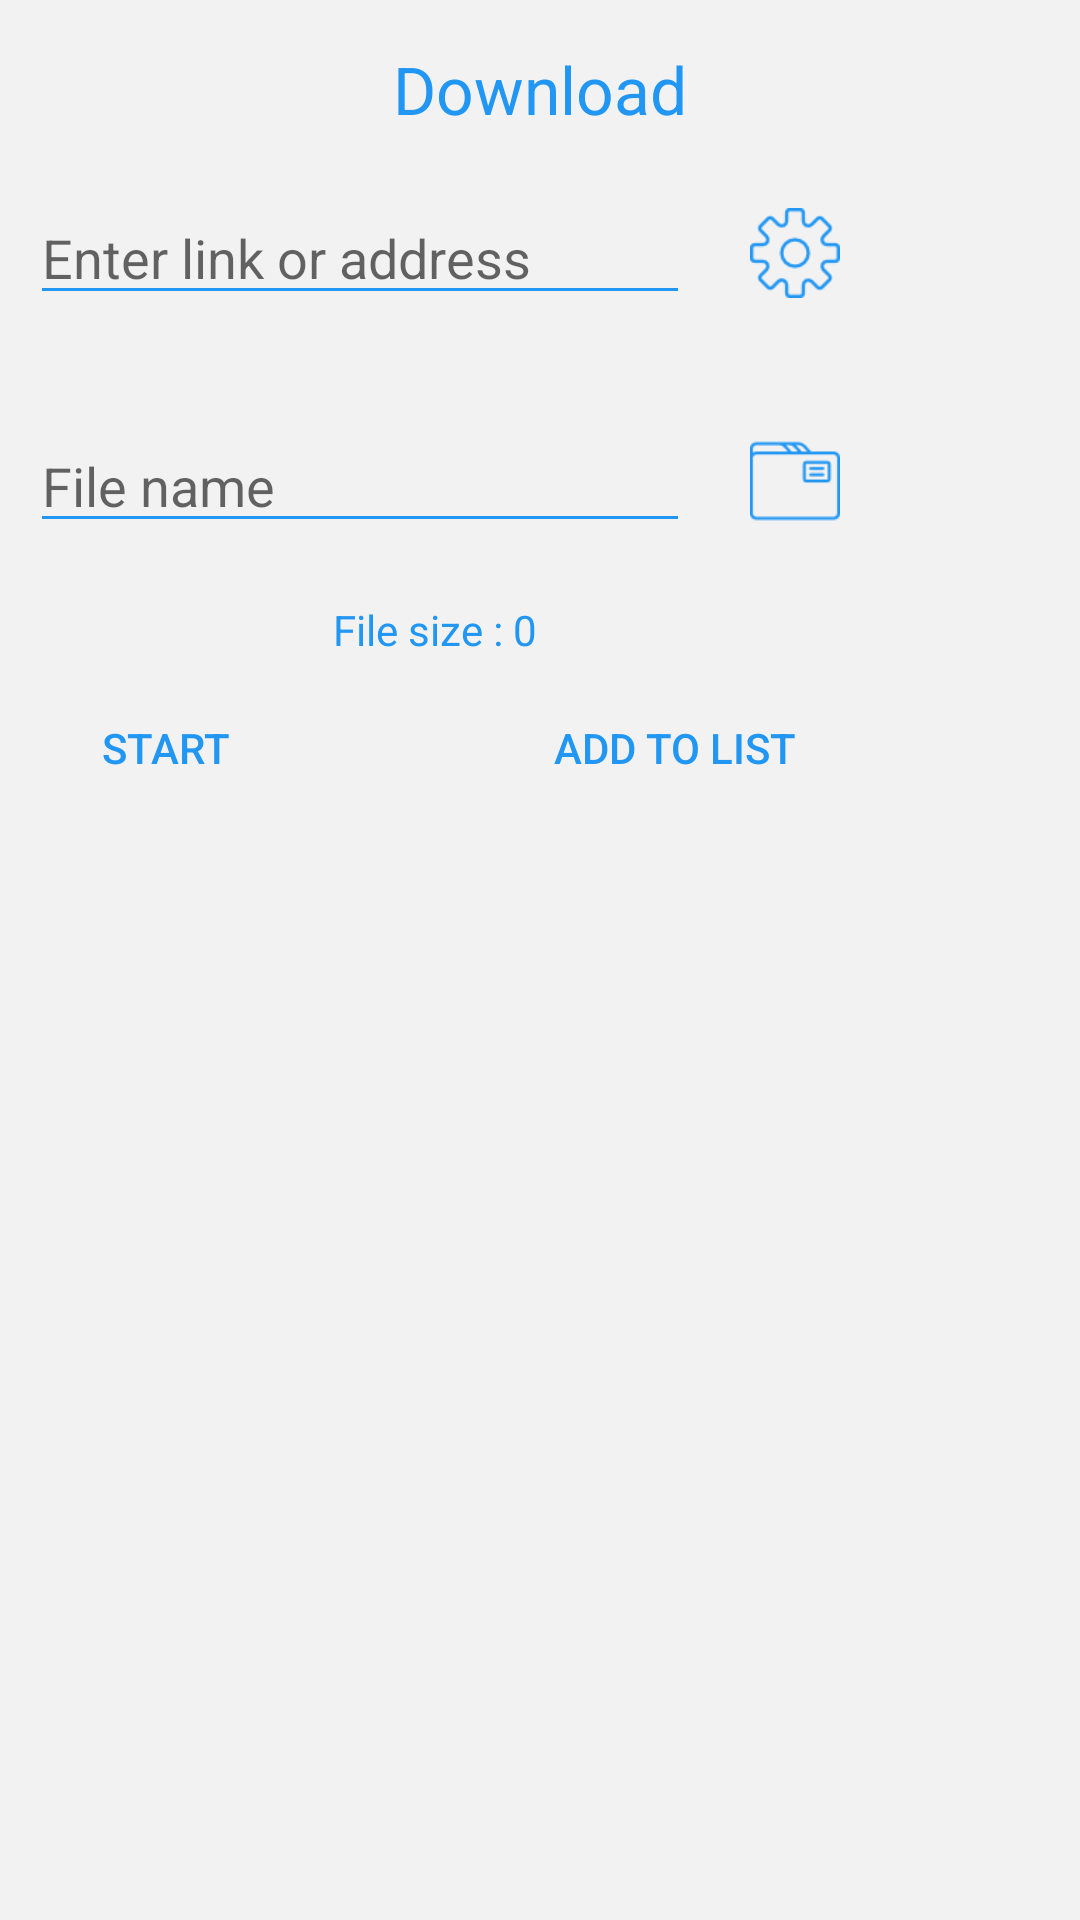

Named icons in this screenshot (1080*1920) and their centers, point (x, y):
download dialog folder: point (795, 481)
